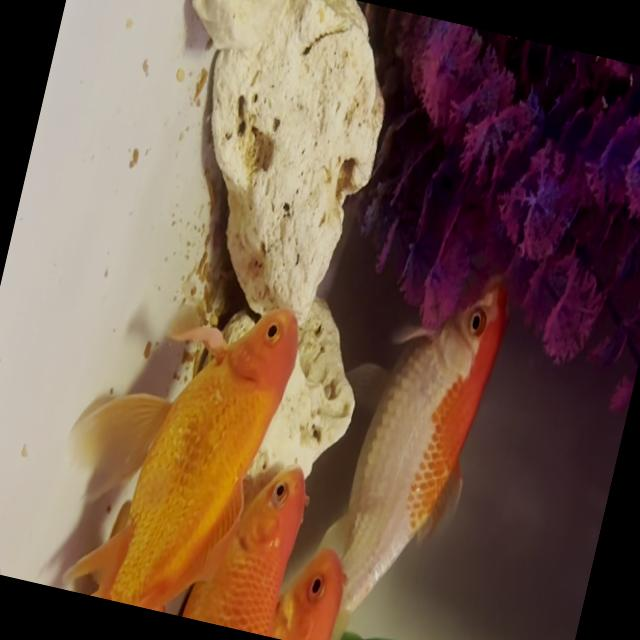fish: (336, 234, 526, 639), (106, 243, 306, 626), (180, 462, 314, 638), (245, 522, 364, 640)
